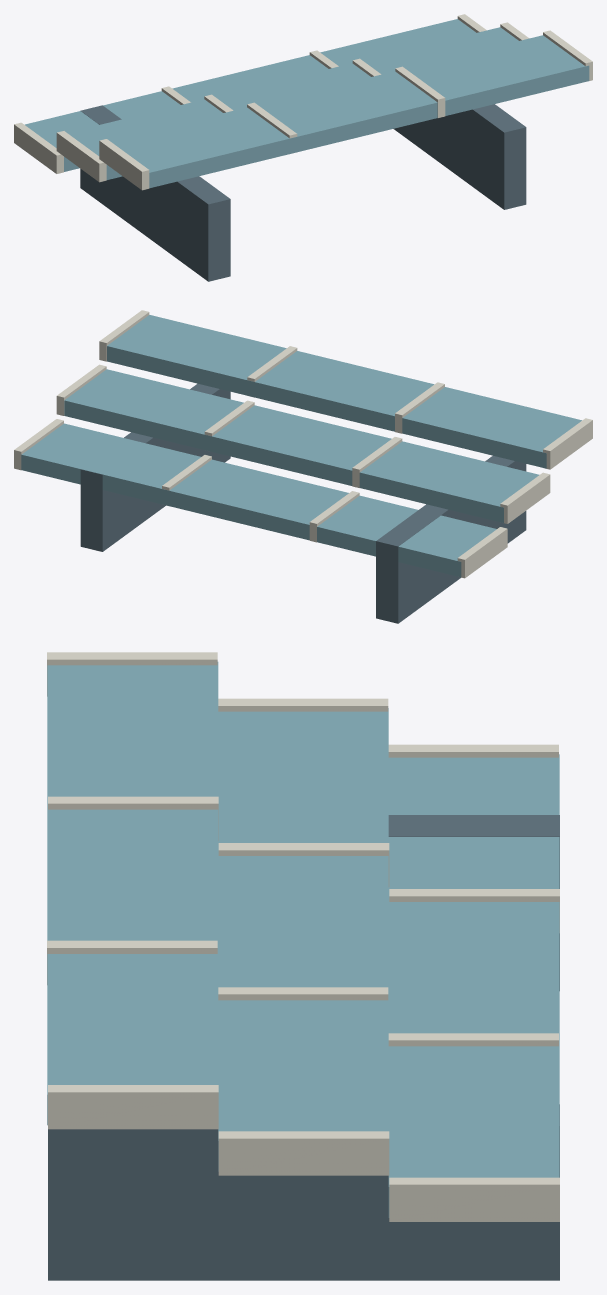
File: voxel-city-districts-solar-panel-array-2c70a47e__24922.glb
3 views of the same model, one above another, from view 1: azimuth 30°, elevation 25°; view 2: azimuth 150°, elevation 25°; view 3: azimuth 270°, elevation 25° (orthographic). The views are drawn at different scales.
Parts seen in each view (by area): view 1: solar-panel-array-glass, solar-panel-array-dark, solar-panel-array-concrete; view 2: solar-panel-array-glass, solar-panel-array-dark, solar-panel-array-concrete; view 3: solar-panel-array-glass, solar-panel-array-dark, solar-panel-array-concrete.
Part boxes in pixels (x1,y1,x2,y2): solar-panel-array-glass: (25, 19, 589, 188); solar-panel-array-dark: (80, 104, 526, 281); solar-panel-array-concrete: (14, 14, 592, 190); solar-panel-array-glass: (21, 315, 581, 577); solar-panel-array-dark: (80, 383, 526, 623); solar-panel-array-concrete: (14, 310, 592, 578); solar-panel-array-glass: (47, 662, 559, 1217); solar-panel-array-dark: (48, 815, 559, 1280); solar-panel-array-concrete: (47, 652, 559, 1221).
Bounding box in the file's own units: 3.05 × 0.8188 × 1.5.
